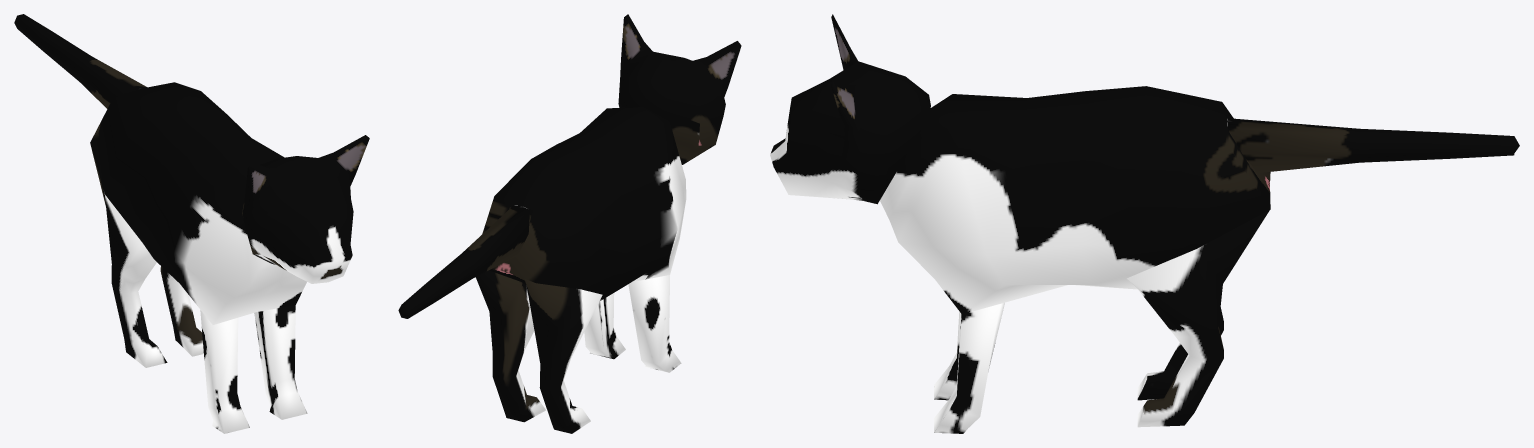
The model's file is percy-base.glb.
3 renders of one model, left to right at view 1: azimuth 30°, elevation 25°; view 2: azimuth 150°, elevation 25°; view 3: azimuth 270°, elevation 25°, orthographic. The views are drawn at different scales.
Visible parts, largest first — view 1: cat-base-model; view 2: cat-base-model; view 3: cat-base-model.
Boxes of the visible parts, box(x1,y1,x2,y2) form: cat-base-model: box(14, 14, 369, 433); cat-base-model: box(398, 14, 741, 433); cat-base-model: box(770, 14, 1519, 433).
Bounding box in the file's own units: 0.423 × 1.02 × 1.91.
Materials: 1 (1 with a texture image).
